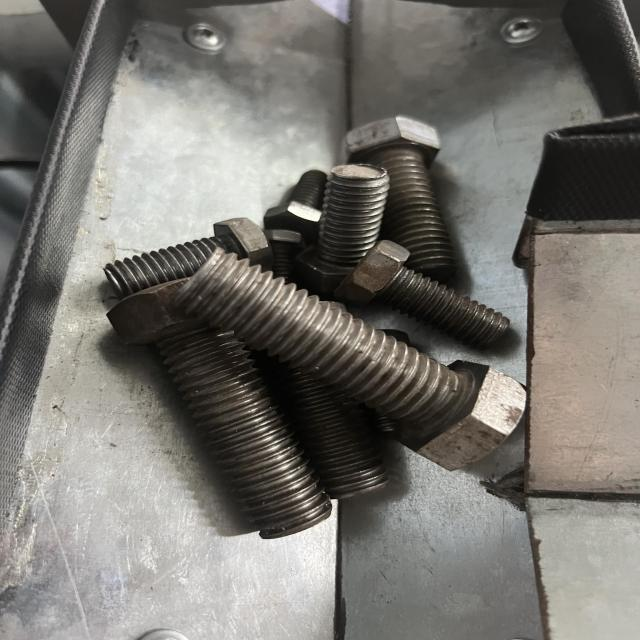bolt: (172, 248, 526, 472), (338, 242, 509, 350)
